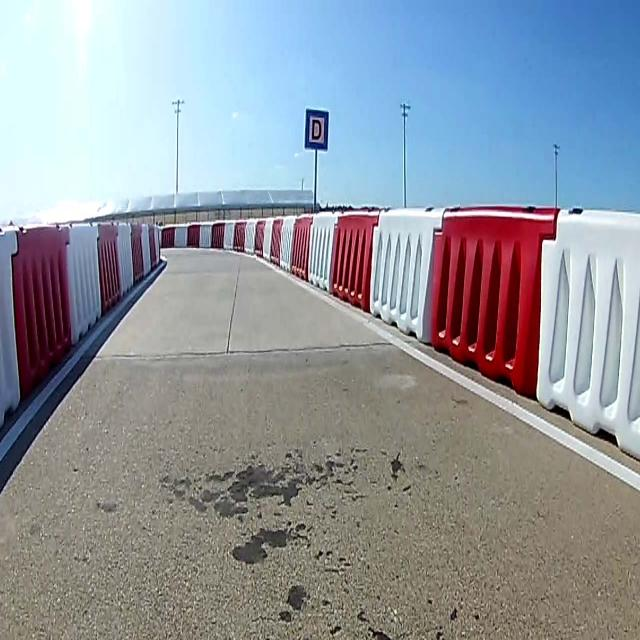durak: (305, 108, 329, 148)
